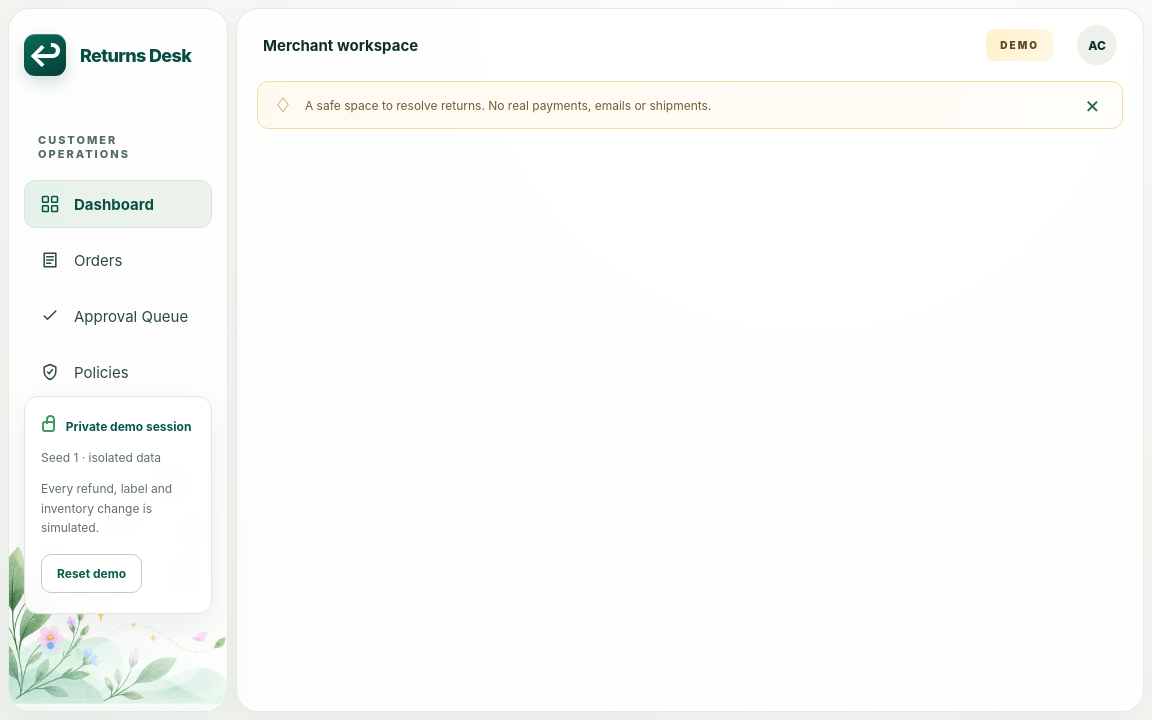
lets the merchant dismiss the demo safety notice
What coordinates should you click on to do the following:
click the button named "Dismiss demo notice"
I would click on:
 (1092, 105)
Its box is [1079,91,1106,119].
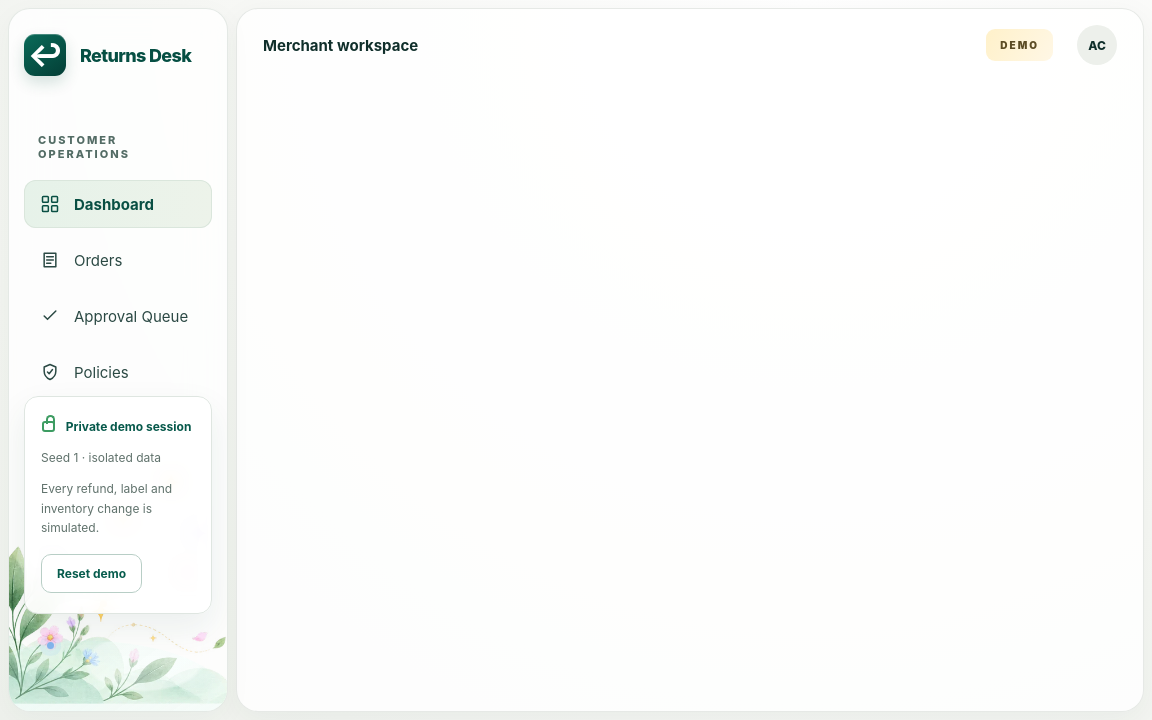
Check: the text "No real payments" is gone
